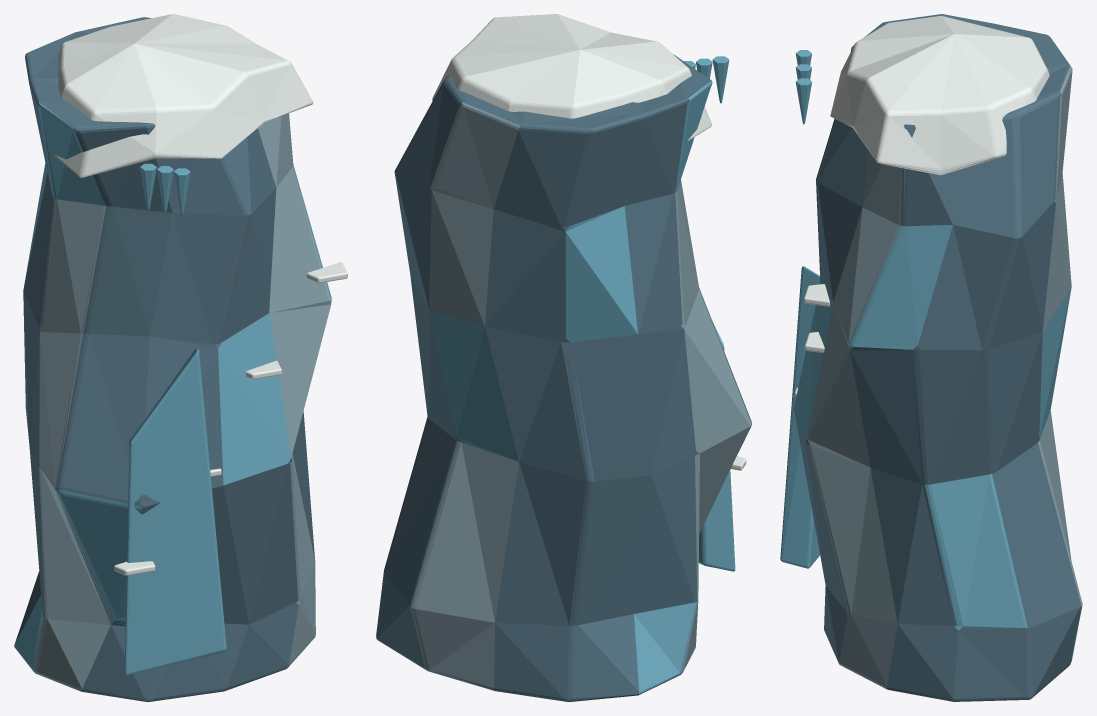
The model's file is CliffSpire.fbx.
3 views of the same model, side by side, from view 1: azimuth 30°, elevation 25°; view 2: azimuth 150°, elevation 25°; view 3: azimuth 270°, elevation 25° (orthographic). The views are drawn at different scales.
Visible parts, largest first — view 1: GFC2_CliffSpire_Rock, GFC2_CliffSpire_SnowCap, GFC2_CliffSpire_IceFracture, GFC2_CliffSpire; view 2: GFC2_CliffSpire_Rock, GFC2_CliffSpire_SnowCap, GFC2_CliffSpire_IceFracture, GFC2_CliffSpire; view 3: GFC2_CliffSpire_Rock, GFC2_CliffSpire_SnowCap, GFC2_CliffSpire_IceFracture, GFC2_CliffSpire.
Part boxes in pixels (box(x1,y1,x2,y2)): GFC2_CliffSpire_Rock: box(14, 17, 331, 701); GFC2_CliffSpire_SnowCap: box(53, 14, 313, 177); GFC2_CliffSpire_IceFracture: box(124, 348, 226, 675); GFC2_CliffSpire: box(114, 163, 347, 575); GFC2_CliffSpire_Rock: box(376, 54, 751, 701); GFC2_CliffSpire_SnowCap: box(432, 14, 711, 140); GFC2_CliffSpire_IceFracture: box(698, 321, 735, 571); GFC2_CliffSpire: box(684, 56, 746, 470); GFC2_CliffSpire_Rock: box(794, 14, 1082, 701); GFC2_CliffSpire_SnowCap: box(830, 15, 1049, 175); GFC2_CliffSpire_IceFracture: box(780, 266, 820, 568); GFC2_CliffSpire: box(794, 50, 829, 397).
Size of the model in its own units: 3.89 by 7.58 by 3.53.
